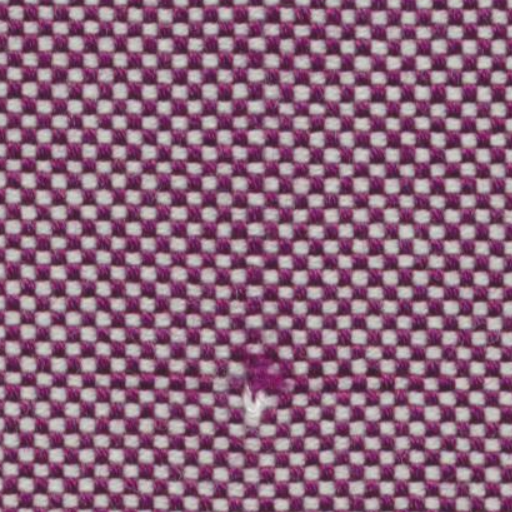MianQiu: (224, 342, 300, 434)
